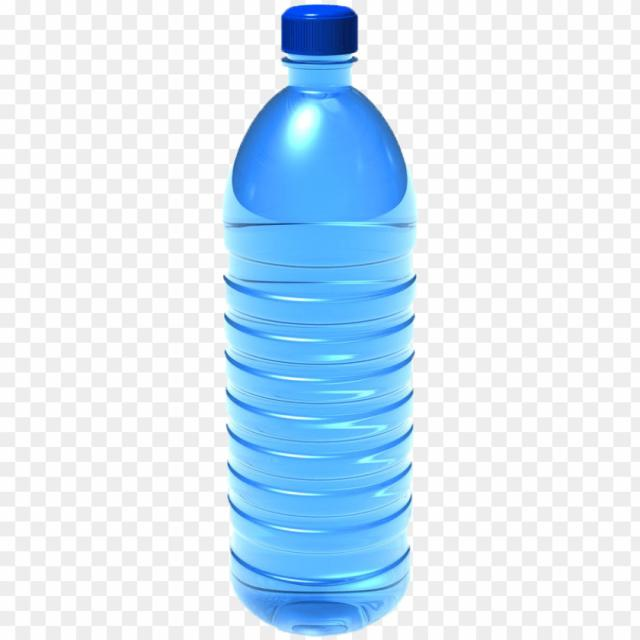bottle: (198, 0, 439, 640)
